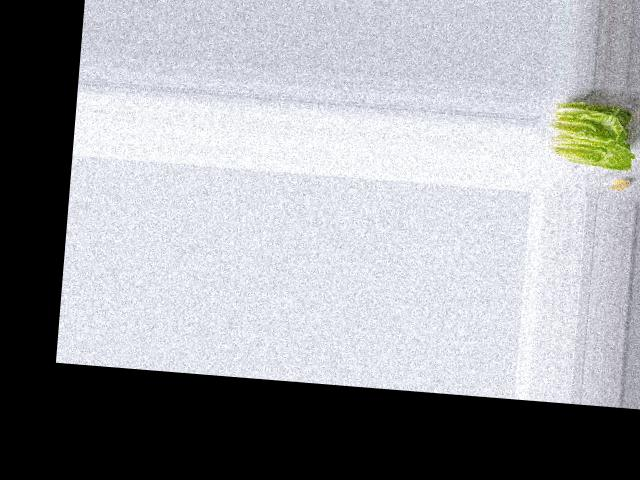lettuce: (546, 96, 640, 174)
